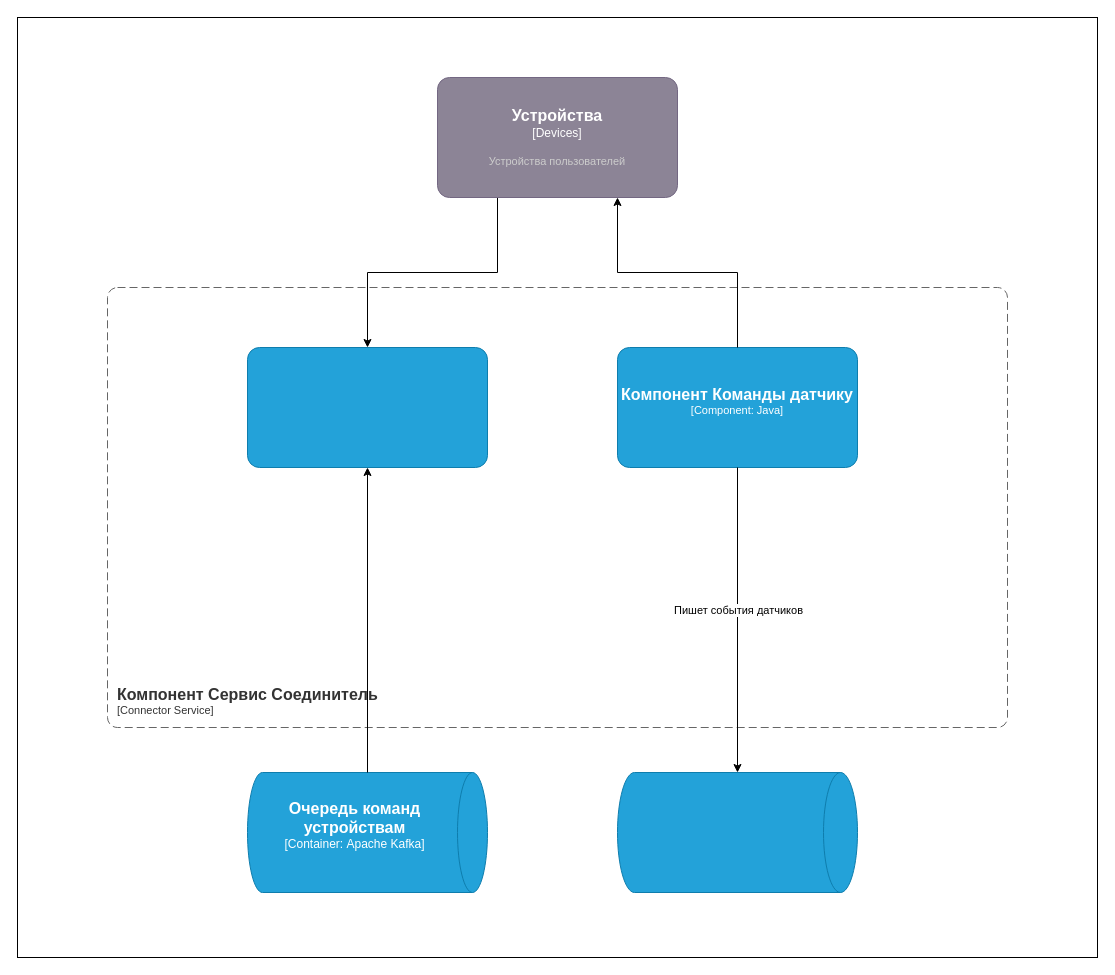
The diagram is 1115 pixels wide and 975 high, and some of its shapes have lost their labels. Each missing label, with the centre of its shape:
Компонент Чтения датчика [Component: Java]: point 367,407
Лог событий устройств [Container: Apache Kafka]: point 737,832
